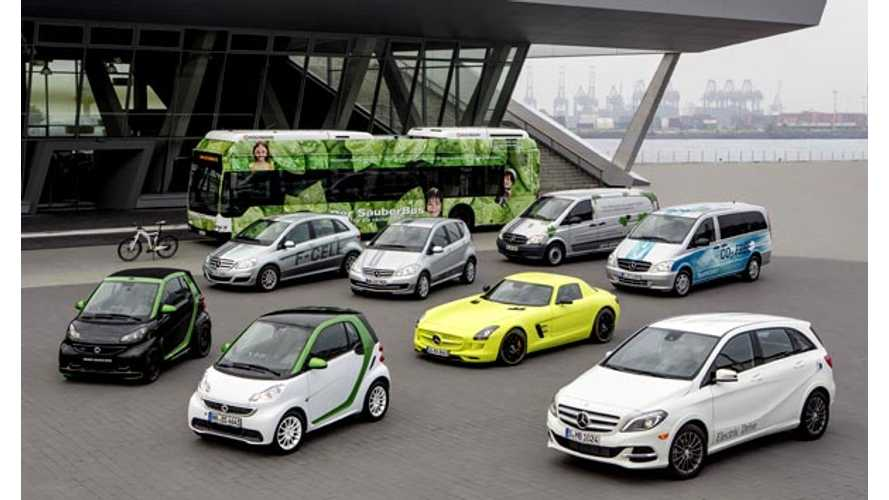car: (535, 311, 836, 488), (194, 309, 401, 441), (407, 283, 623, 369), (60, 264, 206, 386), (495, 188, 665, 268), (606, 212, 768, 294), (201, 212, 364, 288), (353, 217, 474, 299)
